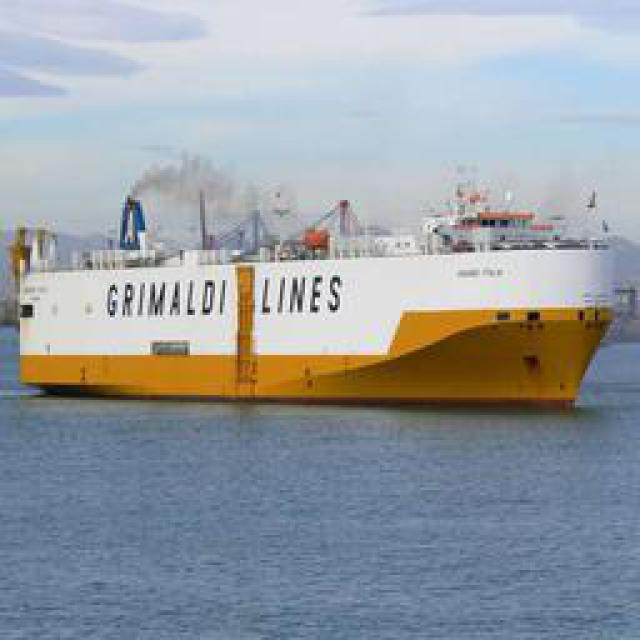Ship: (17, 191, 630, 414)
